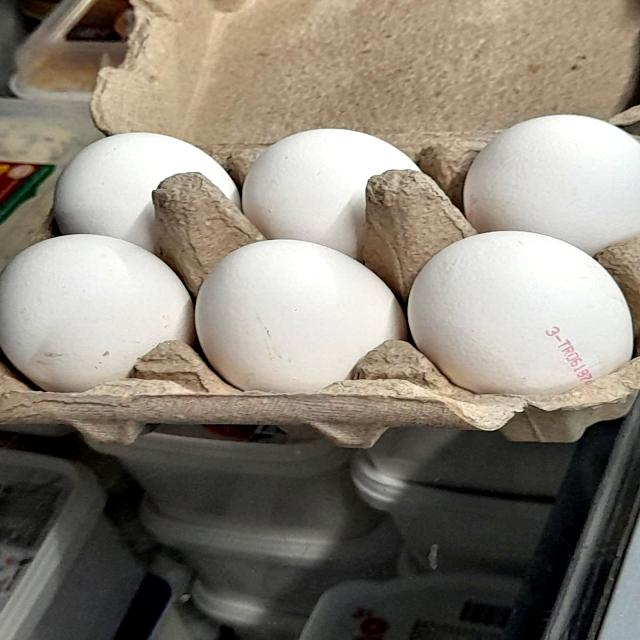egg: (397, 220, 640, 419), (180, 225, 408, 409), (0, 233, 193, 412)
